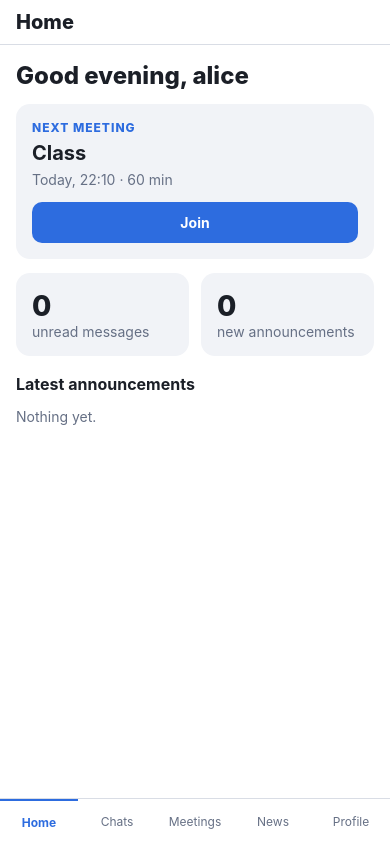
Scenario: home › during a meeting the card turns into Return to meeting
expect the text "Good evening, alice" is shown: met, box left=16, top=61, right=249, bottom=90
Click the element named "join next meeting": (195, 222) left=32, top=202, right=358, bottom=243
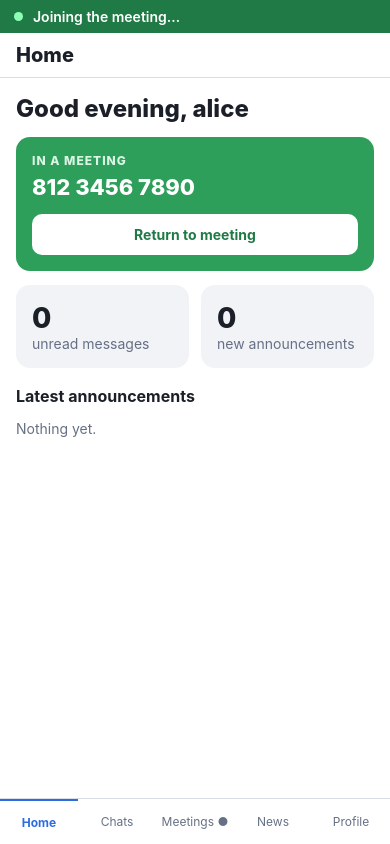
expect the text "IN A MEETING" is shown: met, box left=32, top=153, right=127, bottom=168
